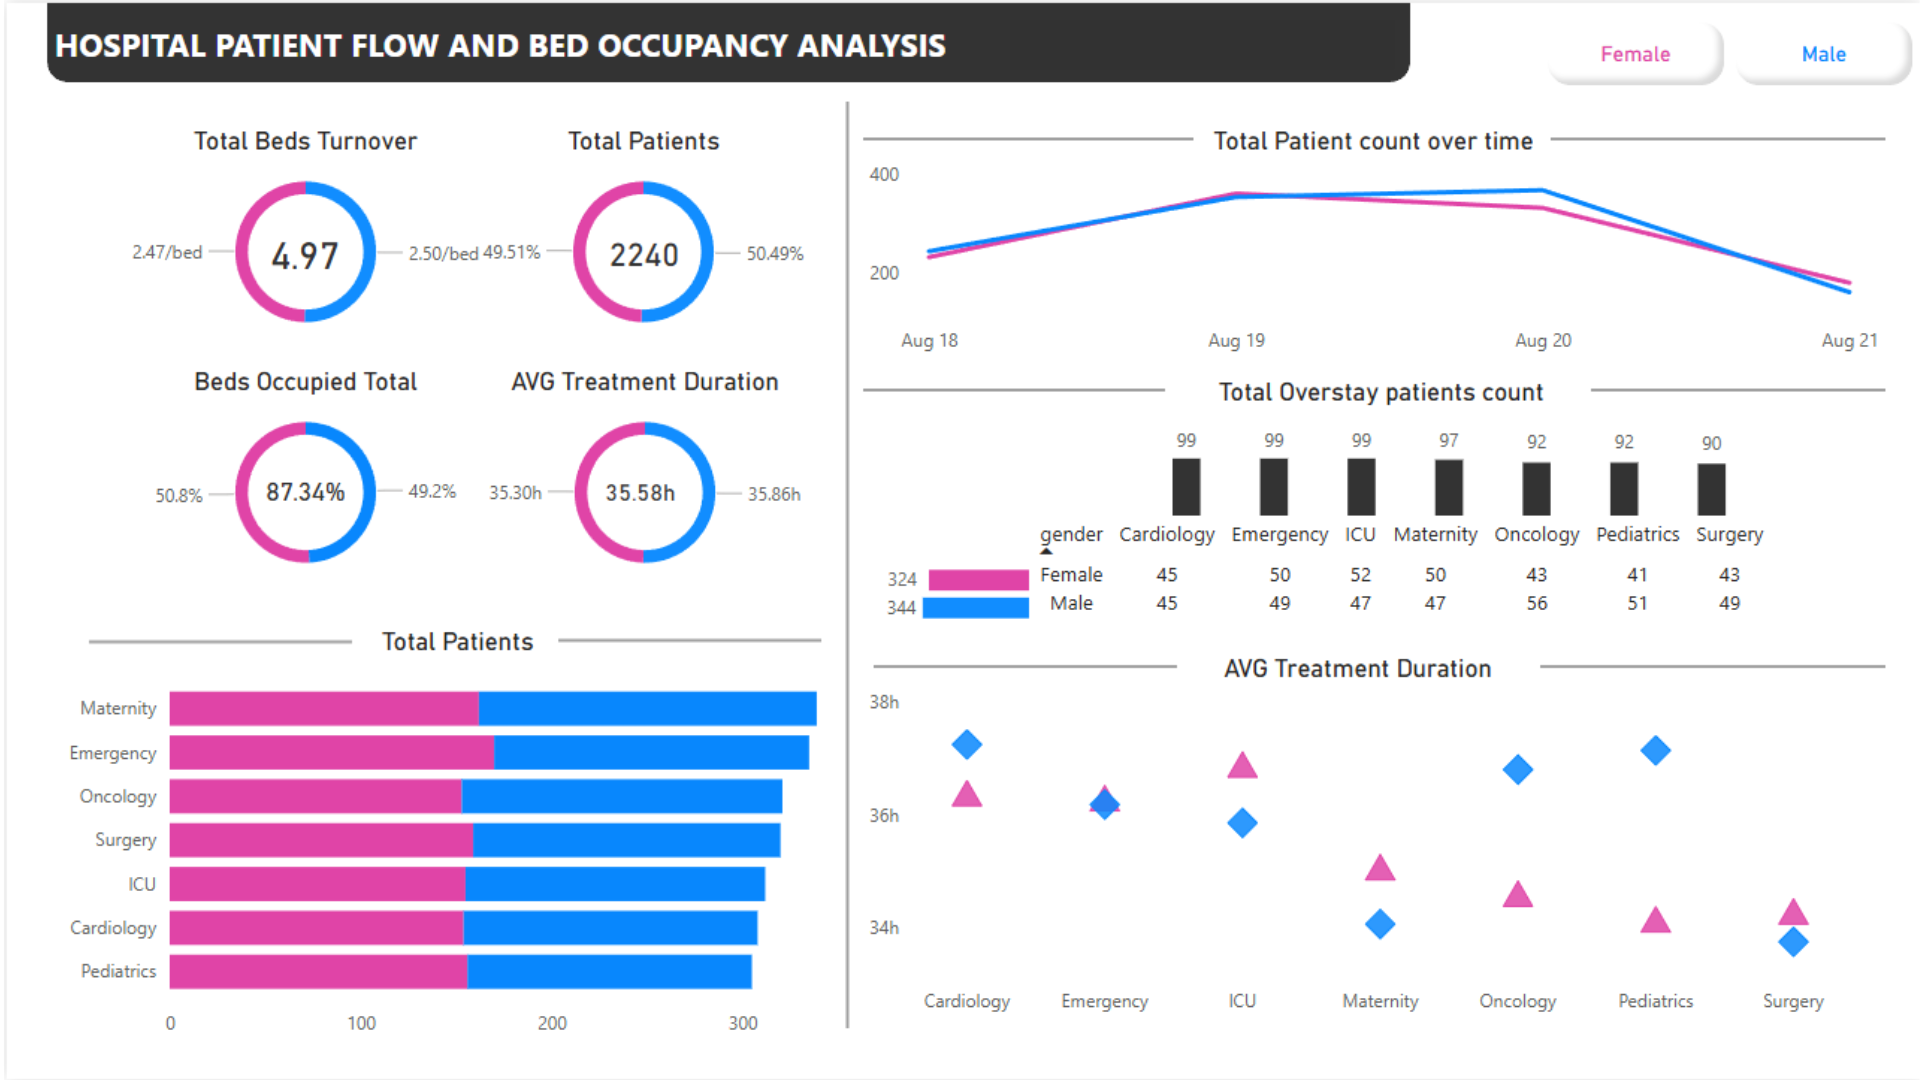

The dashboard page shown, as its layout file describes it:
{"tool":"powerbi","page":{"name":"MAIN","canvas":[1280,720],"ordinal":0},"visuals":[{"type":"donutChart","fields":{"Y":["Sum(vw_patient_demographics.total_patients)"],"Category":["vw_patient_demographics.gender"]},"box":[281,82,290,150],"z":0},{"type":"lineChart","fields":{"Y":["Sum(vw_patient_volume_trend.patient_count)"],"Series":["vw_patient_volume_trend.gender"],"Category":["vw_patient_volume_trend.admission_date.Variation.Date Hierarchy.Year","vw_patient_volume_trend.admission_date.Variation.Date Hierarchy.Quarter","vw_patient_volume_trend.admission_date.Variation.Date Hierarchy.Month","vw_patient_volume_trend.admission_date.Variation.Date Hierarchy.Day"]},"box":[571.9,81.7,684.7,162.4],"z":1000},{"type":"barChart","fields":{"Category":["vw_department_inflow.department"],"Y":["Sum(vw_department_inflow.patient_count)"],"Series":["vw_department_inflow.gender"]},"box":[32,417,539,284],"z":2000},{"type":"pivotTable","fields":{"Values":["Sum(vw_overstay_patients.overstay_count)"],"Rows":["vw_overstay_patients.gender"],"Columns":["vw_overstay_patients.department"]},"box":[681,340,559,79],"z":3000},{"type":"donutChart","fields":{"Category":["vw_bed_turnover_rate.gender"],"Y":["Sum(vw_bed_turnover_rate.bed_turnover_rate)"]},"box":[27.1,81.4,290,149.2],"z":4000},{"type":"advancedSlicerVisual","fields":{"Values":["dim_patient.gender"]},"box":[1026,8,254,52],"z":5000},{"type":"scatterChart","fields":{"X":["vw_avg_treatment_duration.department"],"Y":["Sum(vw_avg_treatment_duration.avg_treatment_duration)"],"Series":["vw_avg_treatment_duration.gender"]},"box":[572,435,664,251],"z":6000},{"type":"clusteredBarChart","fields":{"Category":["vw_overstay_patients.gender"],"Y":["Sum(vw_overstay_patients.overstay_count)"]},"box":[584,357,105,70],"z":7000},{"type":"clusteredColumnChart","fields":{"Category":["vw_overstay_patients.department"],"Y":["Sum(vw_overstay_patients.overstay_count)"]},"box":[775,274,382,75],"z":8000},{"type":"card","fields":{"Values":["Sum(vw_patient_demographics.total_patients)"]},"box":[357,142,139,51],"z":9000},{"type":"card","fields":{"Values":["Sum(vw_bed_turnover_rate.bed_turnover_rate)"]},"box":[79.3,122.1,186.7,80.3],"z":10000},{"type":"donutChart","fields":{"Y":["Avg(vw_avg_treatment_duration.avg_treatment_duration)"],"Category":["vw_avg_treatment_duration.gender"]},"box":[282.1,243.3,290,150],"z":11000},{"type":"donutChart","fields":{"Series":["vw_bed_occupancy.gender"],"Y":["Sum(vw_bed_occupancy.bed_occupancy_percent)"]},"box":[27.1,243.1,290,150.2],"z":12000},{"type":"card","fields":{"Values":["Avg(vw_avg_treatment_duration.avg_treatment_duration)"]},"box":[369,302.2,114.4,52.2],"z":13000},{"type":"card","fields":{"Values":["Sum(vw_bed_occupancy.bed_occupancy_percent)"]},"box":[100.1,301.5,145,53.2],"z":14000},{"type":"shape","box":[27,0,912,53],"z":15000},{"type":"textbox","box":[659.5,250,520.4,29.2],"z":16000},{"type":"textbox","box":[27,8,613,38],"z":17000},{"type":"shape","box":[545,66,35,620],"z":18000},{"type":"shape","box":[368.6,417.3,176,18.5],"z":19000},{"type":"shape","box":[1060.2,250,196.5,18.5],"z":20000},{"type":"shape","box":[579.7,434.8,203.3,18.5],"z":21000},{"type":"shape","box":[55.4,418.2,176,18.5],"z":25000},{"type":"shape","box":[572.9,81.7,220.8,18.5],"z":26000},{"type":"shape","box":[1032.9,81.7,223.7,18.5],"z":27000},{"type":"shape","box":[572.9,250,202.3,18.5],"z":28000},{"type":"shape","box":[1026.1,434.8,230.5,18.5],"z":29000},{"type":"actionButton","box":[987.2,15.6,38.9,37],"z":30000}]}

Visuals, with their boxes in screenshot pixels (x1, y1, x2, y2), scaled from the page's 1280x720 canvas onto the 1920x1080 screenshot:
donutChart - Sum(vw_patient_demographics.total_patients) x vw_patient_demographics.gender: <box>422,123,856,348</box>
lineChart - Sum(vw_patient_volume_trend.patient_count) x vw_patient_volume_trend.gender: <box>858,123,1885,366</box>
barChart - vw_department_inflow.department x Sum(vw_department_inflow.patient_count): <box>48,626,856,1052</box>
pivotTable - Sum(vw_overstay_patients.overstay_count) x vw_overstay_patients.gender: <box>1022,510,1860,628</box>
donutChart - vw_bed_turnover_rate.gender x Sum(vw_bed_turnover_rate.bed_turnover_rate): <box>41,122,476,346</box>
advancedSlicerVisual - dim_patient.gender: <box>1539,12,1919,90</box>
scatterChart - vw_avg_treatment_duration.department x Sum(vw_avg_treatment_duration.avg_treatment_duration): <box>858,652,1854,1029</box>
clusteredBarChart - vw_overstay_patients.gender x Sum(vw_overstay_patients.overstay_count): <box>876,536,1034,640</box>
clusteredColumnChart - vw_overstay_patients.department x Sum(vw_overstay_patients.overstay_count): <box>1162,411,1736,524</box>
card - Sum(vw_patient_demographics.total_patients): <box>536,213,744,290</box>
card - Sum(vw_bed_turnover_rate.bed_turnover_rate): <box>119,183,399,304</box>
donutChart - Avg(vw_avg_treatment_duration.avg_treatment_duration) x vw_avg_treatment_duration.gender: <box>423,365,858,590</box>
donutChart - vw_bed_occupancy.gender x Sum(vw_bed_occupancy.bed_occupancy_percent): <box>41,365,476,590</box>
card - Avg(vw_avg_treatment_duration.avg_treatment_duration): <box>554,453,725,532</box>
card - Sum(vw_bed_occupancy.bed_occupancy_percent): <box>150,452,368,532</box>
shape: <box>40,0,1408,80</box>
textbox: <box>989,375,1770,419</box>
textbox: <box>40,12,960,69</box>
shape: <box>818,99,870,1029</box>
shape: <box>553,626,817,654</box>
shape: <box>1590,375,1885,403</box>
shape: <box>870,652,1174,680</box>
shape: <box>83,627,347,655</box>
shape: <box>859,123,1191,150</box>
shape: <box>1549,123,1885,150</box>
shape: <box>859,375,1163,403</box>
shape: <box>1539,652,1885,680</box>
actionButton: <box>1481,23,1539,79</box>
